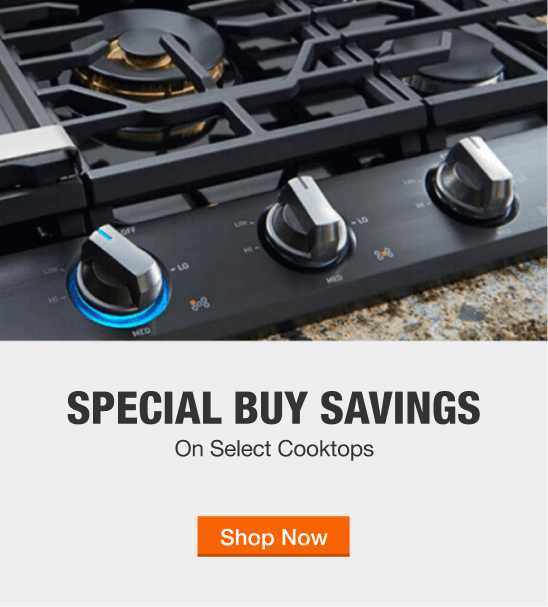stove: (1, 1, 548, 343)
